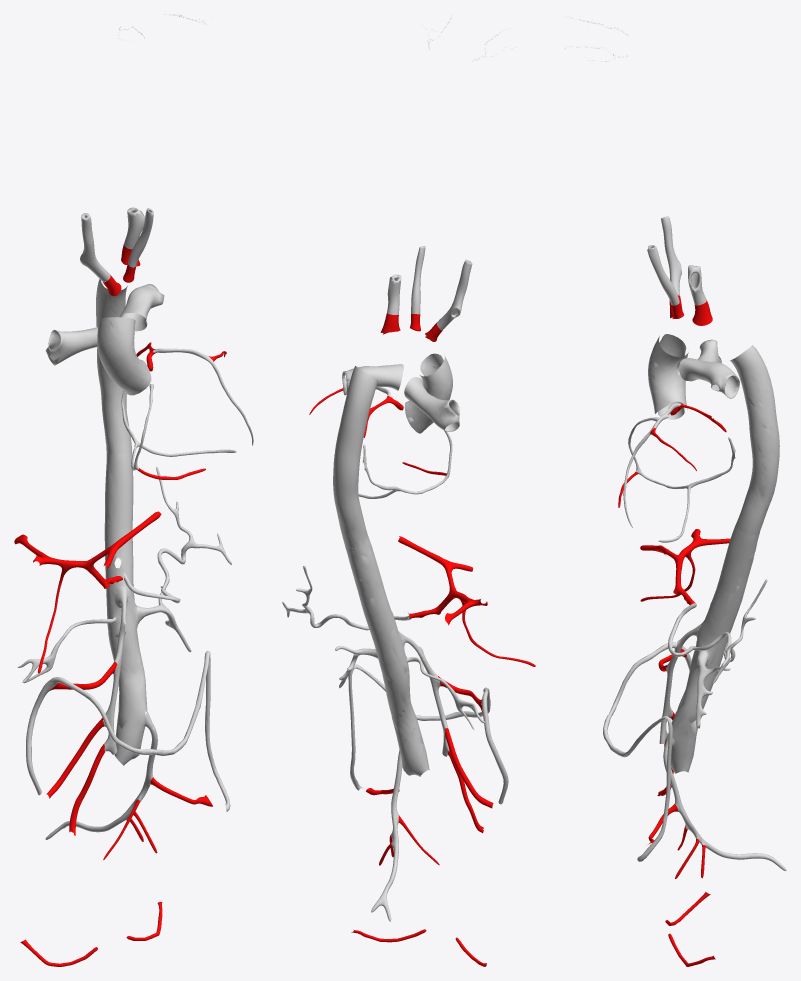
File: arteries.glb
3 views of the same model, side by side, from view 1: azimuth 30°, elevation 25°; view 2: azimuth 150°, elevation 25°; view 3: azimuth 270°, elevation 25° (orthographic). The views are drawn at different scales.
Visible parts, largest first — view 1: HRA-VH_F_descending_aorta_b, HRA-VH_F_marginal_artery_of_Drummond, HRA-VH_F_ascending_aorta, HRA-VH_F_descending_aorta_a, HRA-VH_F_splenic_artery, HRA-VH_F_pulmonary_artery_R, HRA-VH_F_superior_mesenteric_artery, HRA-VH_F_pulmonary_artery_L, HRA-VH_F_brachiocephalic_artery_b, HRA-VH_F_right_renal_artery, HRA-VH_F_inferior_mesenteric_artery, HRA-VH_F_ileocolic_artery (+6 smaller); view 2: HRA-VH_F_descending_aorta_b, HRA-VH_F_descending_aorta_a, HRA-VH_F_marginal_artery_of_Drummond, HRA-VH_F_ascending_aorta, HRA-VH_F_pulmonary_artery_R, HRA-VH_F_pulmonary_artery_L, HRA-VH_F_superior_mesenteric_artery, HRA-VH_F_splenic_artery, HRA-VH_F_brachiocephalic_artery_b, HRA-VH_F_inferior_mesenteric_artery, HRA-VH_F_left_common_carotid_artery_b, HRA-VH_F_right_renal_artery (+1 smaller); view 3: HRA-VH_F_descending_aorta_b, HRA-VH_F_descending_aorta_a, HRA-VH_F_ascending_aorta, HRA-VH_F_marginal_artery_of_Drummond, HRA-VH_F_pulmonary_artery_L, HRA-VH_F_splenic_artery, HRA-VH_F_superior_mesenteric_artery, HRA-VH_F_brachiocephalic_artery_b, HRA-VH_F_left_renal_artery, HRA-VH_F_right_coronary_artery, HRA-VH_F_inferior_mesenteric_artery, HRA-VH_F_left_common_carotid_artery_b (+2 smaller).
Part boxes in pixels (x1,y1,x2,y2): HRA-VH_F_descending_aorta_b: (104,453,147,765); HRA-VH_F_marginal_artery_of_Drummond: (26,651,230,811); HRA-VH_F_ascending_aorta: (97,317,151,395); HRA-VH_F_descending_aorta_a: (96,279,132,454); HRA-VH_F_splenic_artery: (123,467,231,603); HRA-VH_F_pulmonary_artery_R: (45,327,98,365); HRA-VH_F_superior_mesenteric_artery: (103,586,128,754); HRA-VH_F_pulmonary_artery_L: (120,284,164,331); HRA-VH_F_brachiocephalic_artery_b: (80,213,110,281); HRA-VH_F_right_renal_artery: (18,617,116,683); HRA-VH_F_inferior_mesenteric_artery: (120,712,157,820); HRA-VH_F_ileocolic_artery: (69,744,104,835); HRA-VH_F_descending_aorta_b: (345,536,429,776); HRA-VH_F_descending_aorta_a: (333,366,377,548); HRA-VH_F_marginal_artery_of_Drummond: (348,664,508,804); HRA-VH_F_ascending_aorta: (404,353,452,433); HRA-VH_F_pulmonary_artery_R: (404,377,459,431); HRA-VH_F_pulmonary_artery_L: (342,364,403,395); HRA-VH_F_superior_mesenteric_artery: (398,631,449,756); HRA-VH_F_splenic_artery: (282,565,411,630); HRA-VH_F_brachiocephalic_artery_b: (437,259,472,329); HRA-VH_F_inferior_mesenteric_artery: (391,750,402,847); HRA-VH_F_left_common_carotid_artery_b: (411,246,425,314); HRA-VH_F_right_renal_artery: (407,657,485,729); HRA-VH_F_descending_aorta_b: (668,523,759,773); HRA-VH_F_descending_aorta_a: (730,345,779,535); HRA-VH_F_ascending_aorta: (648,334,688,419); HRA-VH_F_marginal_artery_of_Drummond: (603,642,691,861); HRA-VH_F_pulmonary_artery_L: (679,358,739,398); HRA-VH_F_splenic_artery: (668,579,767,684); HRA-VH_F_superior_mesenteric_artery: (659,623,701,743); HRA-VH_F_brachiocephalic_artery_b: (661,216,681,295); HRA-VH_F_left_renal_artery: (696,650,730,728); HRA-VH_F_right_coronary_artery: (628,417,735,489); HRA-VH_F_inferior_mesenteric_artery: (663,734,706,846); HRA-VH_F_left_common_carotid_artery_b: (647,245,679,305).
Size of the model in its own units: 0.4076 by 1.63 by 0.357.
